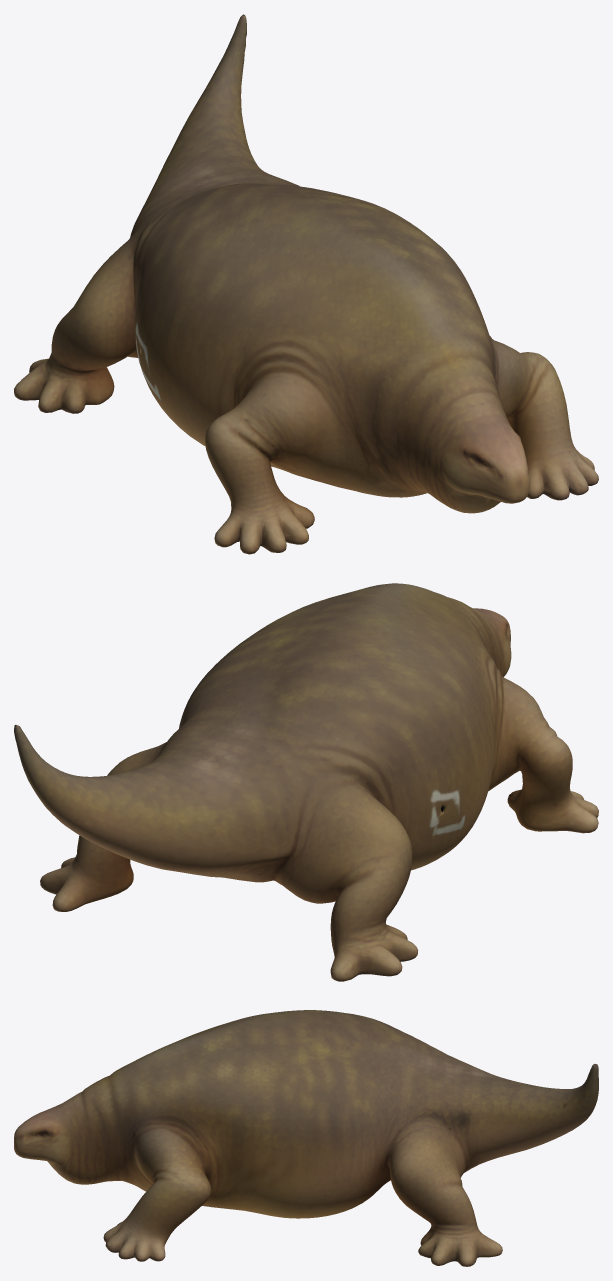
The picture shows the model from 3 angles, top to bottom: view 1: azimuth 30°, elevation 25°; view 2: azimuth 150°, elevation 25°; view 3: azimuth 270°, elevation 25°; orthographic projection. The views are drawn at different scales.
Visible parts, largest first — view 1: world; view 2: world; view 3: world.
Boxes of the visible parts, x1,y1,x2,y2 form: world: [14, 14, 598, 554]; world: [14, 583, 598, 981]; world: [14, 1010, 598, 1266].
Bounding box in the file's own units: 2.77 × 1.77 × 5.
1 material, 1 textured.
